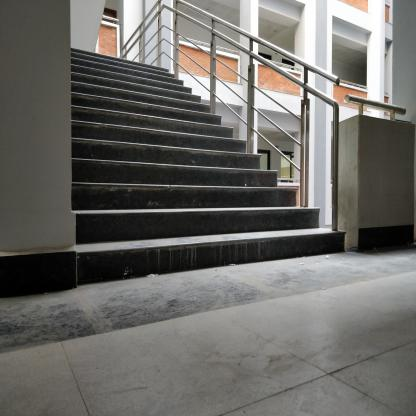stairs: (81, 125, 235, 289)
